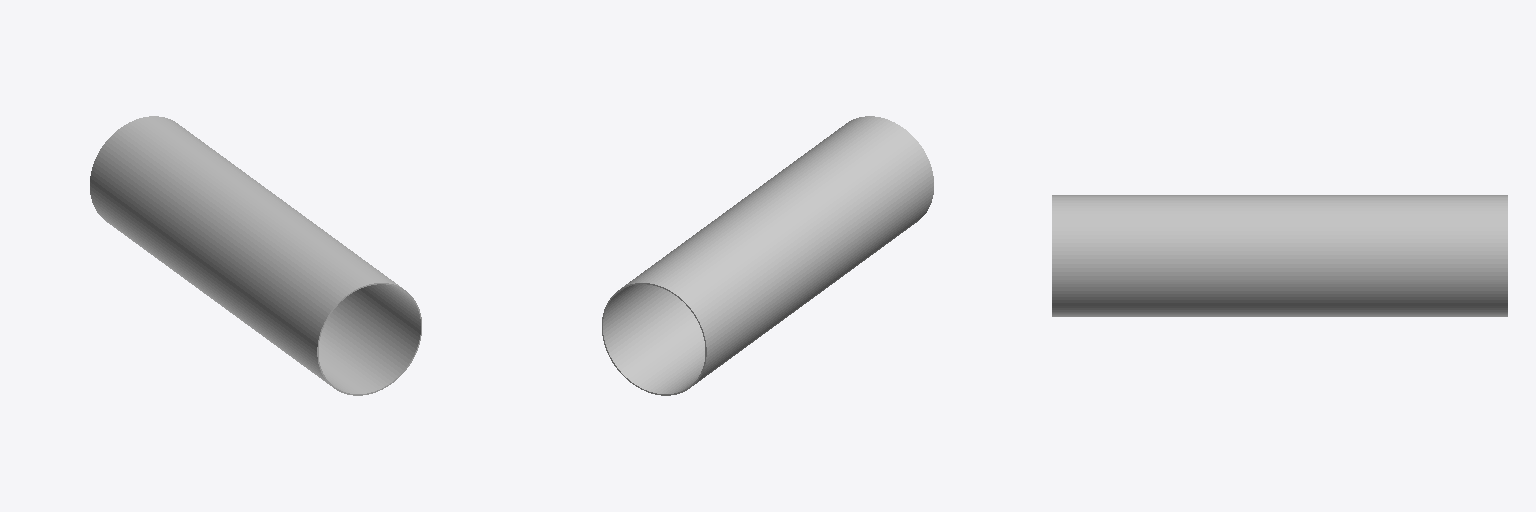
Rendered from pipe.obj.
3 views of the same model, side by side, from view 1: azimuth 30°, elevation 25°; view 2: azimuth 150°, elevation 25°; view 3: azimuth 270°, elevation 25° (orthographic).
Visible parts, largest first — view 1: mesh2.001, mesh0.001; view 2: mesh2.001, mesh0.001; view 3: mesh2.001.
Boxes of the visible parts, box(x1,y1,x2,y2) form: mesh2.001: box(90, 116, 401, 385); mesh0.001: box(319, 284, 420, 393); mesh2.001: box(622, 116, 933, 385); mesh0.001: box(603, 284, 704, 393); mesh2.001: box(1052, 195, 1507, 316).
Size of the model in its own units: 0.4 by 0.3999 by 1.5.